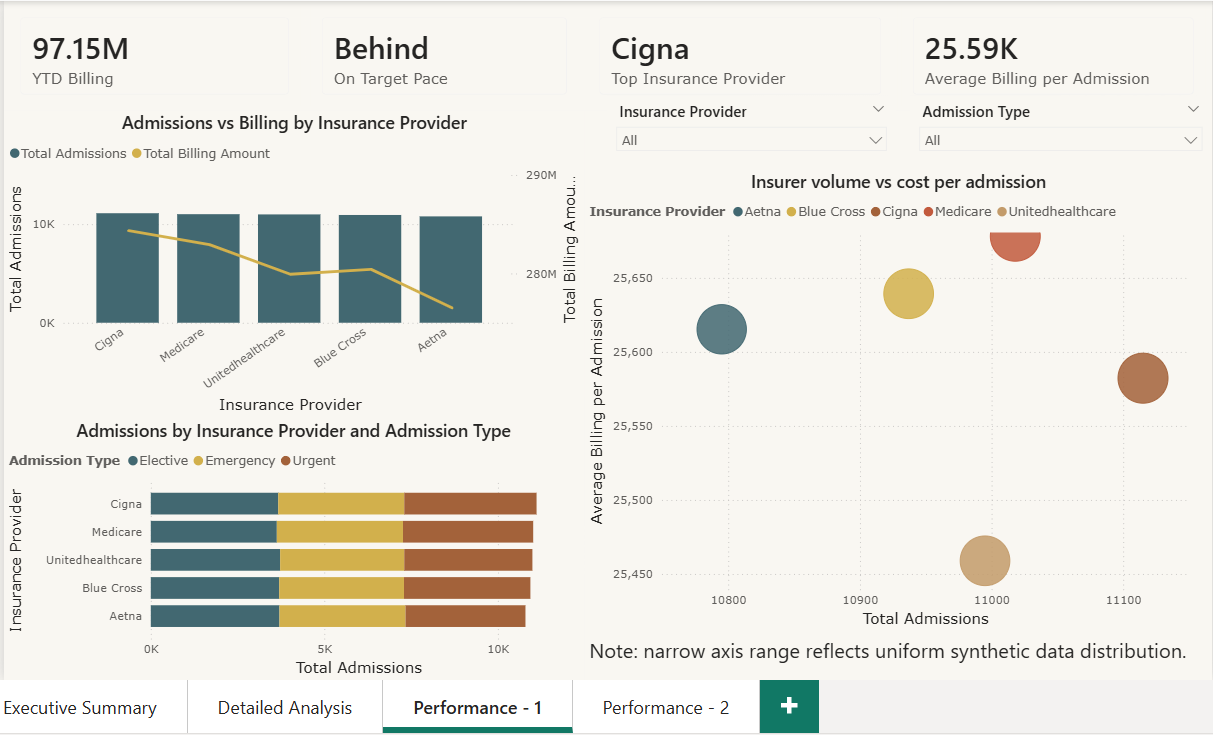

The page's visual inventory and layout, read from the dashboard file:
{"tool":"powerbi","page":{"name":" Performance - 1","canvas":[1280,720],"ordinal":2},"visuals":[{"type":"cardVisual","fields":{"Data":["Measures_Table.Average Billing per Admission"]},"box":[946.4,0,332.4,116.1],"z":0},{"type":"cardVisual","fields":{"Data":["Measures_Table.Top Insurance Provider"]},"box":[613.6,0,333.5,116.2],"z":1000},{"type":"cardVisual","fields":{"Data":["Measures_Table.On Target Pace"]},"box":[319.7,0,294.3,116.1],"z":2000},{"type":"cardVisual","fields":{"Data":["Measures_Table.YTD Billing"]},"box":[0,0,319.7,116.1],"z":3000},{"type":"lineClusteredColumnComboChart","title":"Admissions vs Billing by Insurance Provider","fields":{"Category":["Dim_Insurance.Insurance Provider"],"Y":["Measures_Table.Total Admissions"],"Y2":["Measures_Table.Total Billing Amount"]},"box":[0,116.1,615.6,326.1],"z":4000},{"type":"barChart","title":"Admissions by Insurance Provider and Admission Type","fields":{"Category":["Dim_Insurance.Insurance Provider"],"Y":["Measures_Table.Total Admissions"],"Series":["Dim_Admission_Type.Admission Type"]},"box":[0,442.2,614,278.4],"z":5000},{"type":"scatterChart","title":"Insurer volume vs cost per admission","fields":{"X":["Measures_Table.Total Admissions"],"Y":["Measures_Table.Average Billing per Admission"],"Size":["Measures_Table.Total Billing Amount"],"Series":["Dim_Insurance.Insurance Provider"]},"box":[614.8,177.4,665.8,490.1],"z":6000},{"type":"slicer","fields":{"Values":["Dim_Insurance.Insurance Provider"]},"box":[639.4,100.2,307,77.9],"z":7000},{"type":"slicer","fields":{"Values":["Fact_Admissions.Admission Type"]},"box":[960.7,100.2,319.7,77.9],"z":8000},{"type":"textbox","box":[614.8,667.5,664,52.7],"z":9000}]}

Visuals, with their boxes on the page's 1280x720 design canvas (x1, y1, x2, y2). These are canvas units, not pixel positions in the 1213x735 screenshot, which may show the page scaled, cropped or inside an application window:
cardVisual - Measures_Table.Average Billing per Admission: 946,0,1279,116
cardVisual - Measures_Table.Top Insurance Provider: 614,0,947,116
cardVisual - Measures_Table.On Target Pace: 320,0,614,116
cardVisual - Measures_Table.YTD Billing: 0,0,320,116
"Admissions vs Billing by Insurance Provider" lineClusteredColumnComboChart: 0,116,616,442
"Admissions by Insurance Provider and Admission Type" barChart: 0,442,614,721
"Insurer volume vs cost per admission" scatterChart: 615,177,1281,668
slicer - Dim_Insurance.Insurance Provider: 639,100,946,178
slicer - Fact_Admissions.Admission Type: 961,100,1280,178
textbox: 615,668,1279,720
